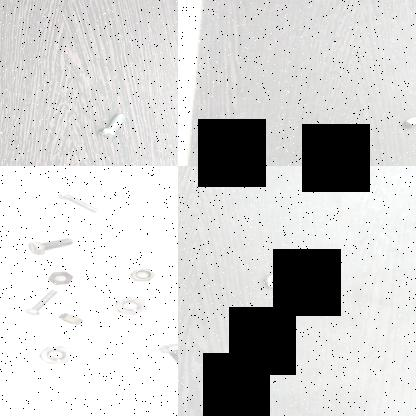Bolts: (52, 188, 104, 214), (20, 287, 61, 316), (28, 232, 75, 256), (96, 112, 132, 140), (154, 339, 178, 370)
NUTS: (108, 291, 150, 318), (33, 341, 75, 366), (259, 269, 299, 289), (52, 309, 90, 325), (123, 266, 159, 282), (43, 269, 77, 285), (398, 111, 416, 128)
